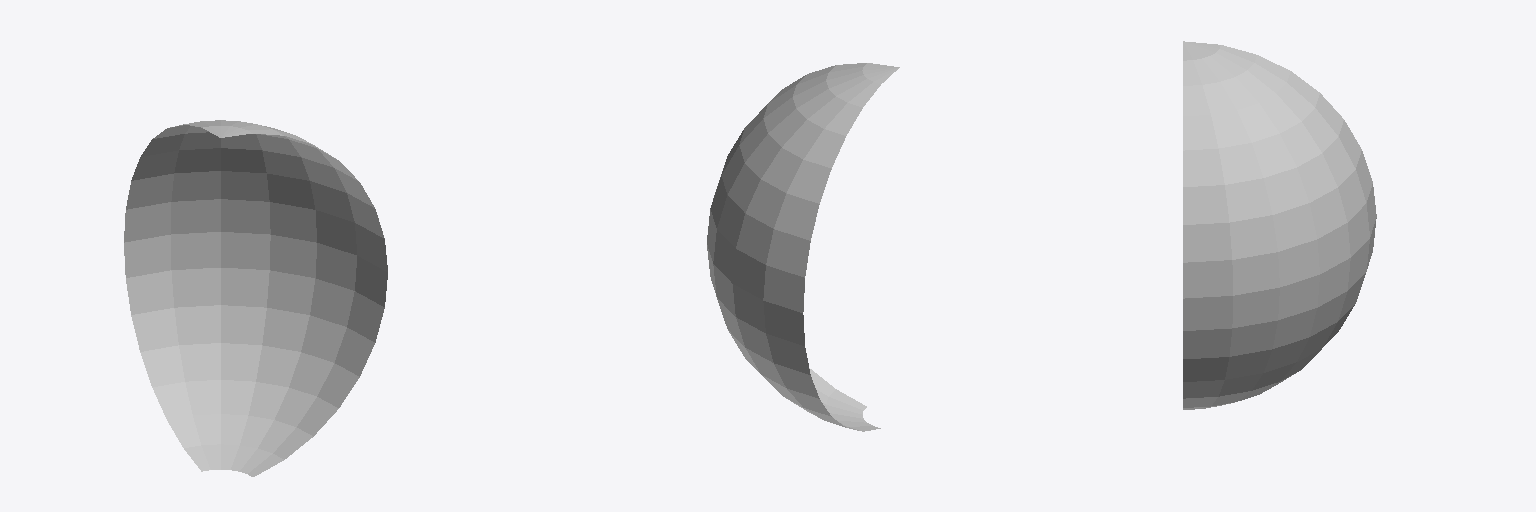
The model's file is map_track_turn_border_C.obj.
The picture shows the model from 3 angles: view 1: azimuth 30°, elevation 25°; view 2: azimuth 150°, elevation 25°; view 3: azimuth 270°, elevation 25°; orthographic projection.
Parts seen in each view (by area): view 1: Circle; view 2: Circle; view 3: Circle.
Part boxes in pixels (bbox=[...]): Circle: bbox=[124, 120, 387, 476]; Circle: bbox=[707, 63, 899, 431]; Circle: bbox=[1183, 41, 1376, 409].
Bounding box in the file's own units: 1 × 1.98 × 1.